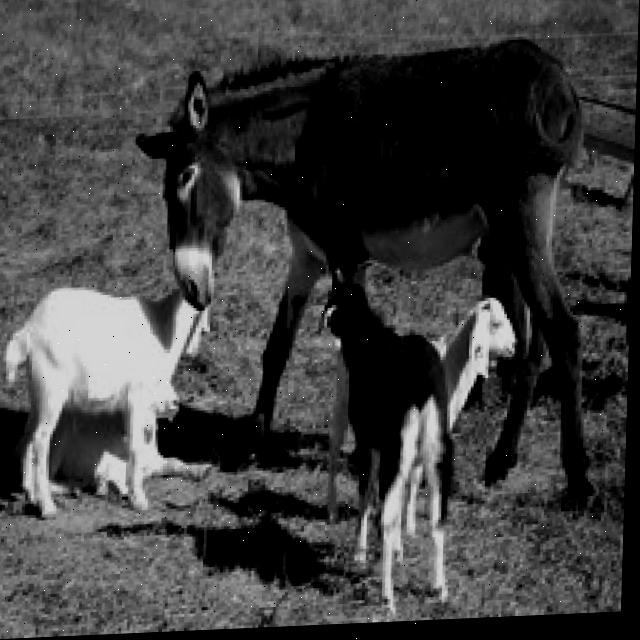Donkey: (121, 33, 610, 531)
